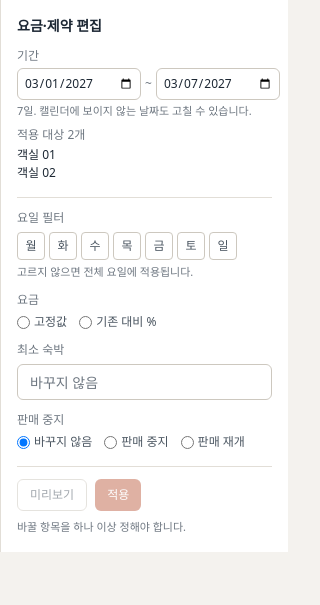
Test: 요금·제약 편집 패널 › 적용하면 캘린더를 다시 불러온다
This screenshot has width=320, height=605.
Click the radio button with test id "stop-sell-on": (111, 442) x1=104 y1=436 x2=117 y2=449
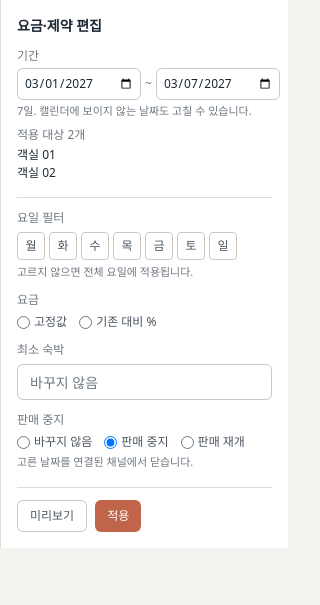
Click the button with test id "apply-button": (118, 516) x1=95 y1=500 x2=141 y2=532
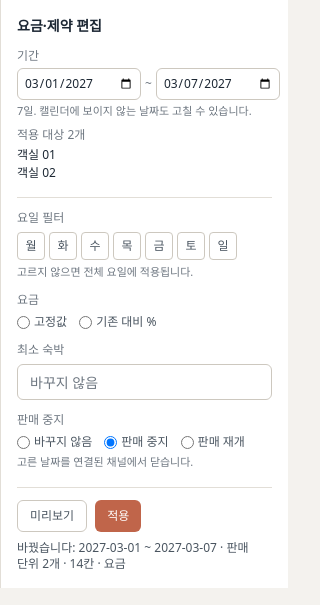
Expected: the message with test id "bulk-edit-applied" shows "바꿨습니다", x1=17 y1=539 x2=78 y2=556
